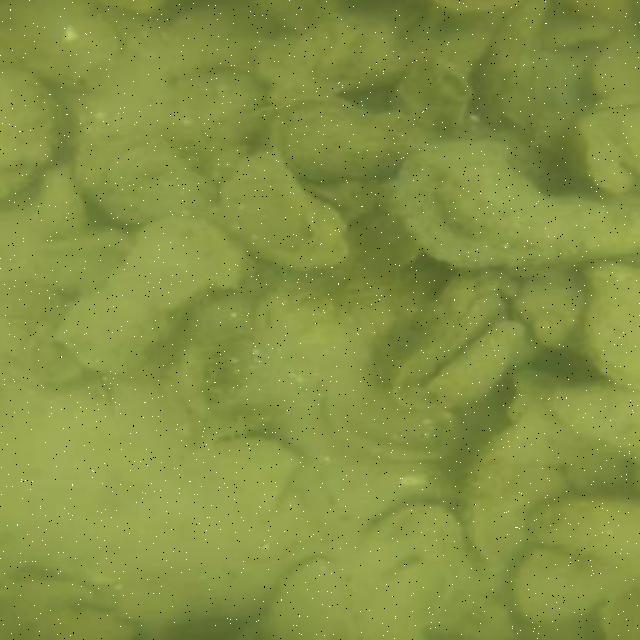Oyster-Closed: (390, 141, 637, 268), (58, 215, 240, 370), (217, 147, 353, 272), (460, 408, 568, 565), (397, 276, 510, 409), (75, 132, 211, 222), (259, 21, 404, 99), (1, 0, 115, 90), (273, 102, 407, 177), (335, 388, 464, 461), (535, 381, 638, 466), (257, 557, 361, 638), (428, 323, 519, 407), (190, 438, 302, 506), (512, 548, 607, 623), (516, 271, 590, 365), (528, 495, 633, 558), (586, 263, 636, 390), (8, 69, 55, 194), (400, 60, 473, 126), (581, 119, 636, 190), (432, 596, 512, 638), (40, 608, 130, 638), (595, 34, 635, 101), (567, 1, 637, 23)
